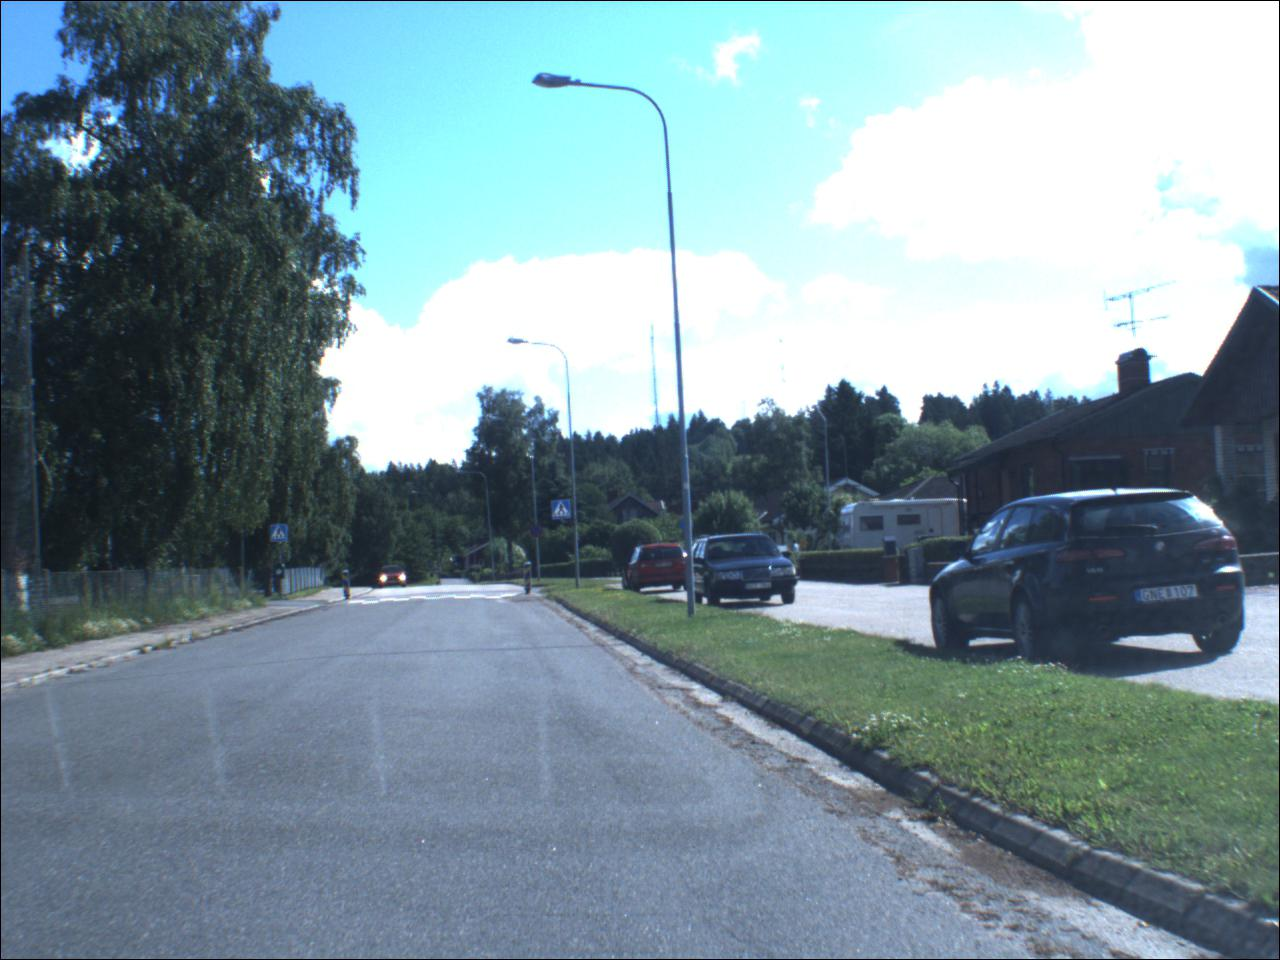NO_PARKING: (532, 524, 546, 541)
PEDESTRIAN_CROSSING: (553, 502, 574, 522), (272, 526, 291, 546)
